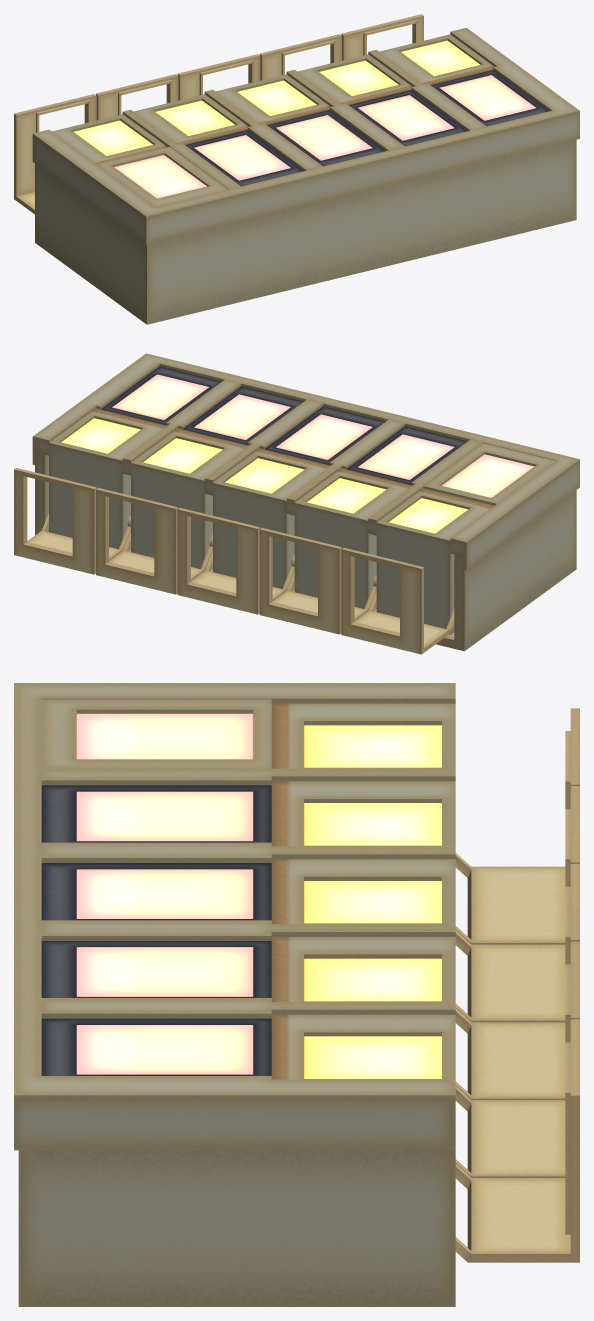
File: glove system.fbx
3 renders of one model, top to bottom at view 1: azimuth 30°, elevation 25°; view 2: azimuth 150°, elevation 25°; view 3: azimuth 270°, elevation 25°, orthographic. The views are drawn at different scales.
Visible parts, largest first — view 1: base (×5), frame, pixle_screen (×5), cover (×5), number_screen (×5), polySurface71; view 2: base (×5), cover (×5), frame, pixle_screen (×5), number_screen (×5), polySurface71; view 3: base (×5), frame, cover (×5), pixle_screen (×5), number_screen (×5), polySurface71.
Boxes of the visible parts, x1,y1,x2,y2 form: base (×5): (35, 34, 576, 324); frame: (32, 27, 579, 244); pixle_screen (×5): (114, 75, 536, 198); cover (×5): (14, 14, 423, 214); number_screen (×5): (73, 40, 480, 155); polySurface71: (52, 114, 167, 164); base (×5): (35, 366, 576, 651); cover (×5): (14, 468, 454, 654); frame: (32, 353, 579, 570); pixle_screen (×5): (112, 374, 534, 497); number_screen (×5): (61, 418, 467, 533); polySurface71: (376, 488, 494, 634); base (×5): (18, 781, 455, 1306); frame: (14, 683, 455, 1150); cover (×5): (455, 708, 579, 1262); pixle_screen (×5): (76, 713, 253, 1074); number_screen (×5): (304, 725, 441, 1078); polySurface71: (271, 703, 455, 768).
Size of the model in its own units: 1060 by 256 by 615.
Materials: 3 (3 with a texture image).
